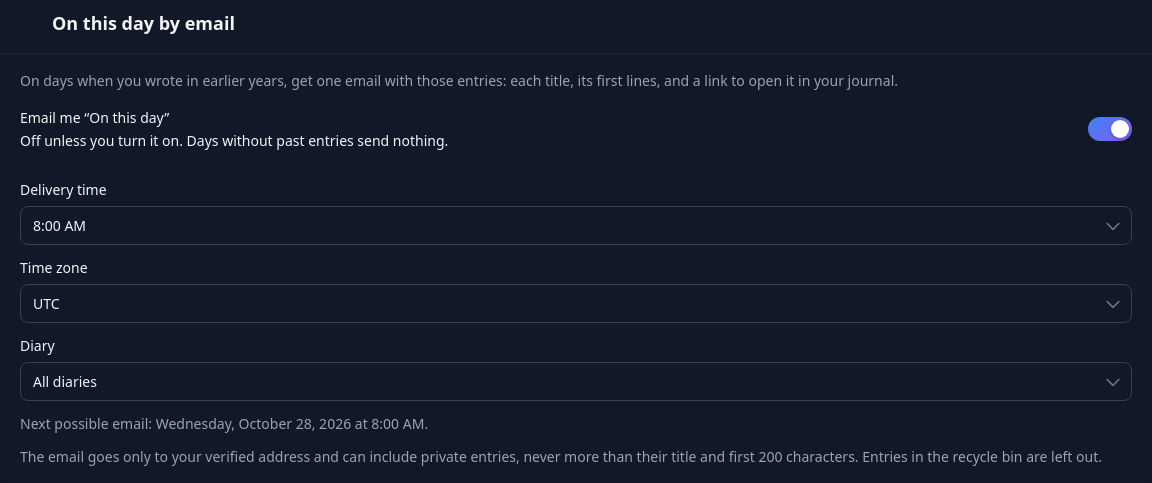
Test: OnThisDayEmailSection › saves the hour, time zone and diary as each one changes
The image size is (1152, 483).
Select "9:00 PM" in the dropdown labelled "Delivery time" at point(576, 226), box [20,206,1132,245]
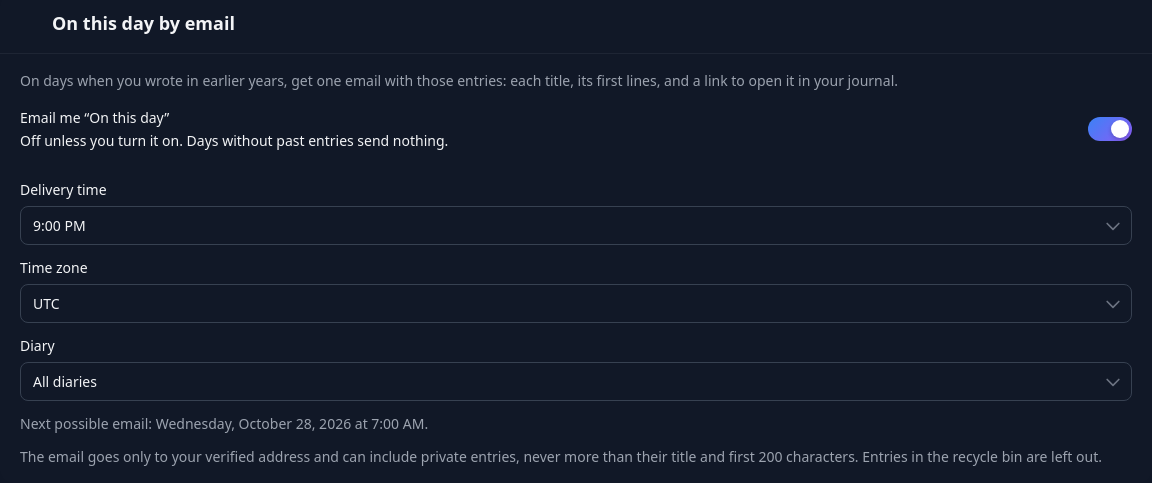
Select "America/New York" in the dropdown labelled "Time zone" at point(576, 304), box [20,284,1132,323]
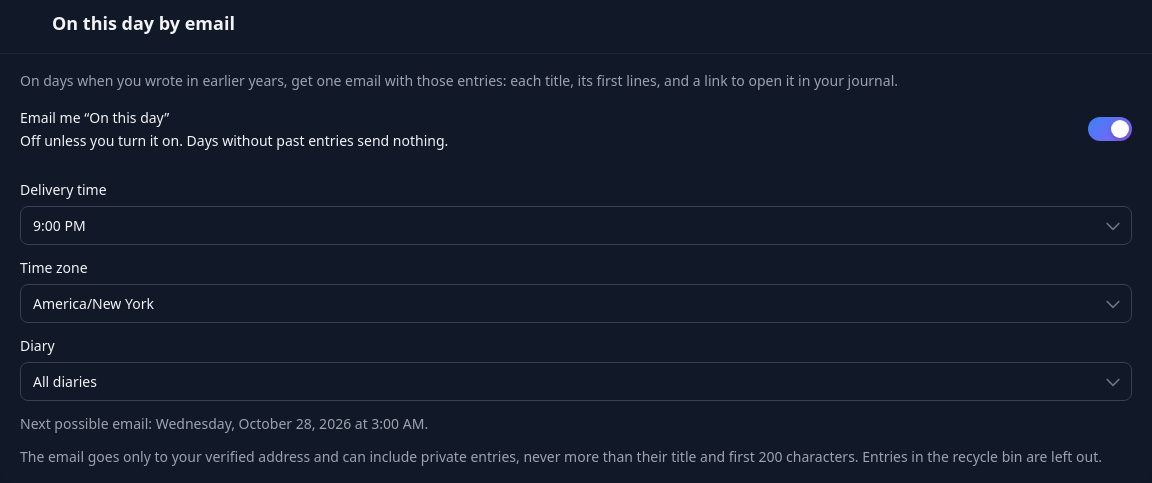
Select "💼 Work" in the dropdown labelled "Diary" at point(576, 382), box [20,362,1132,401]
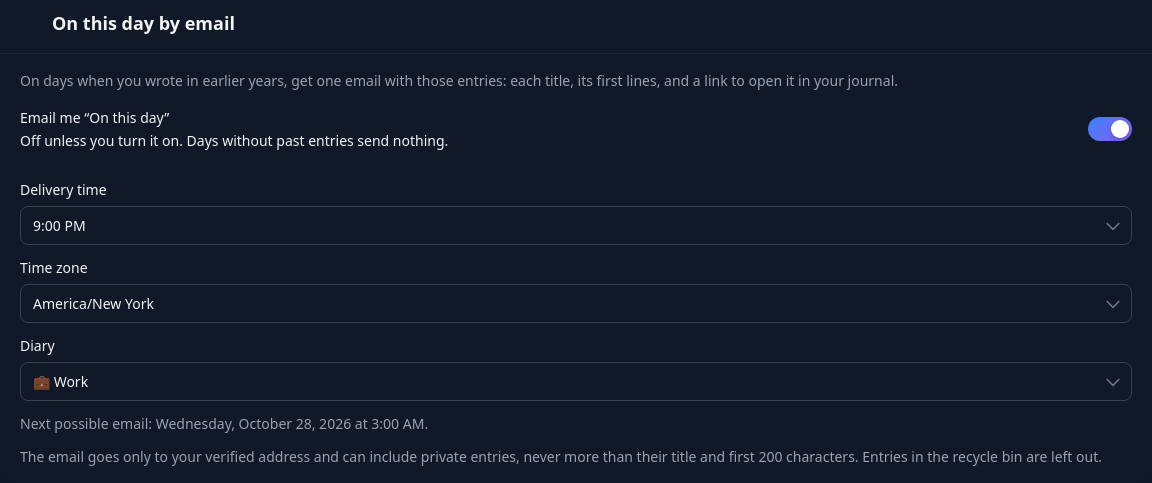
Select "All diaries" in the dropdown labelled "Diary" at point(576, 382), box [20,362,1132,401]
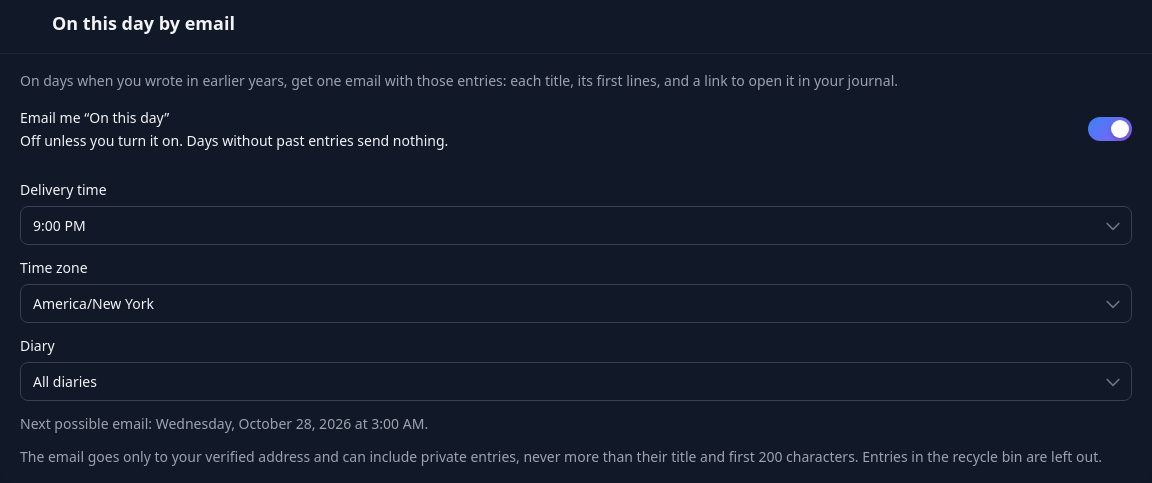
Click the switch named "Email me “On this day”" at point(1110, 129), box [1088,117,1132,141]
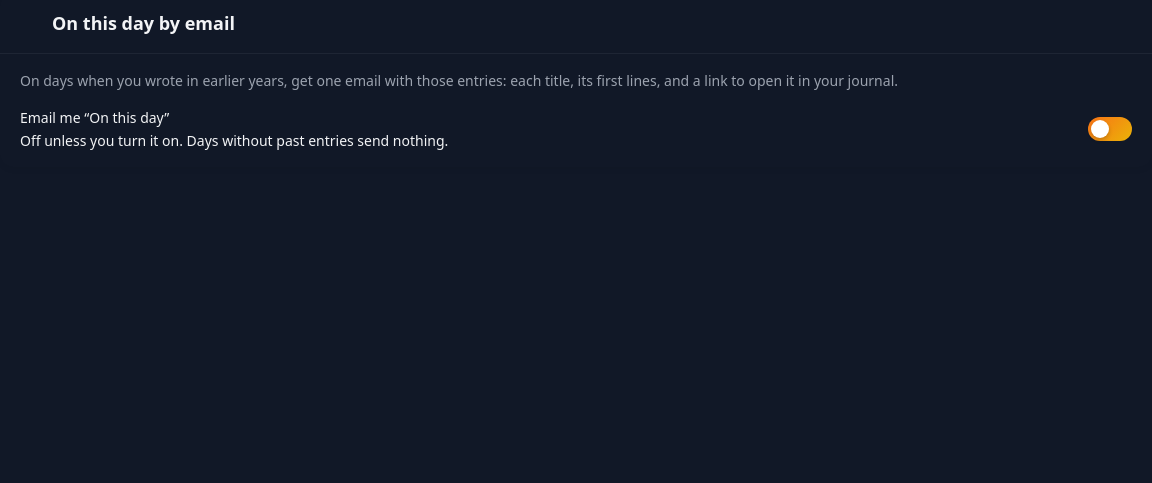
Result: the label labelled "Delivery time" is gone
